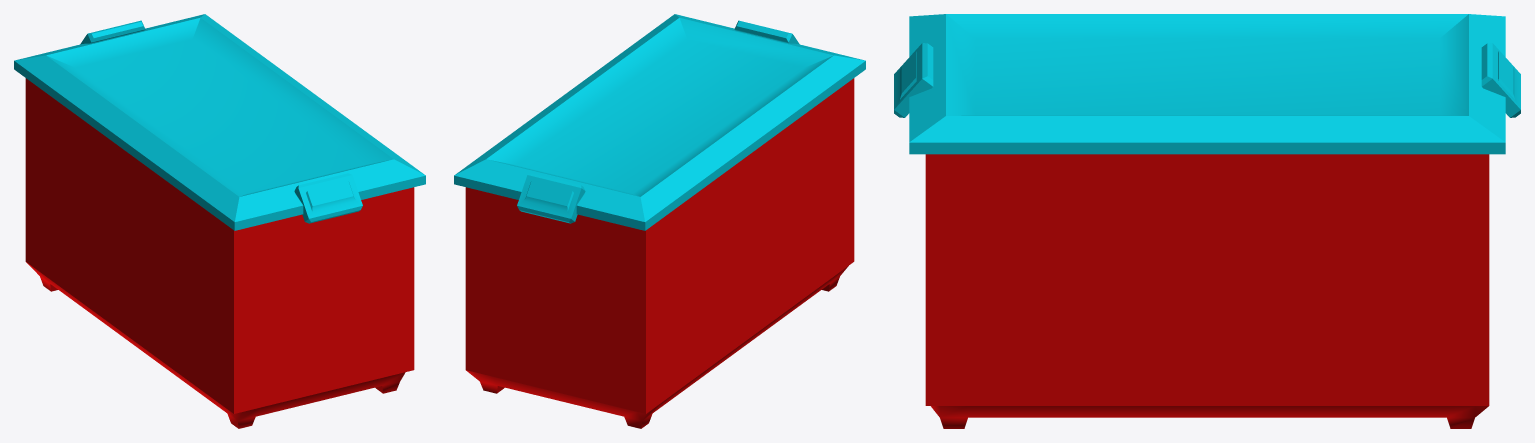
Rendered from Container_Box.fbx.
3 views of the same model, side by side, from view 1: azimuth 30°, elevation 25°; view 2: azimuth 150°, elevation 25°; view 3: azimuth 270°, elevation 25° (orthographic). The views are drawn at different scales.
Parts seen in each view (by area): view 1: Container_Box; view 2: Container_Box; view 3: Container_Box.
Boxes of the visible parts, x1=… form: Container_Box: x1=14, y1=14, x2=425, y2=428; Container_Box: x1=454, y1=14, x2=865, y2=428; Container_Box: x1=894, y1=14, x2=1520, y2=428.
Bounding box in the file's own units: 106 × 124 × 223.
